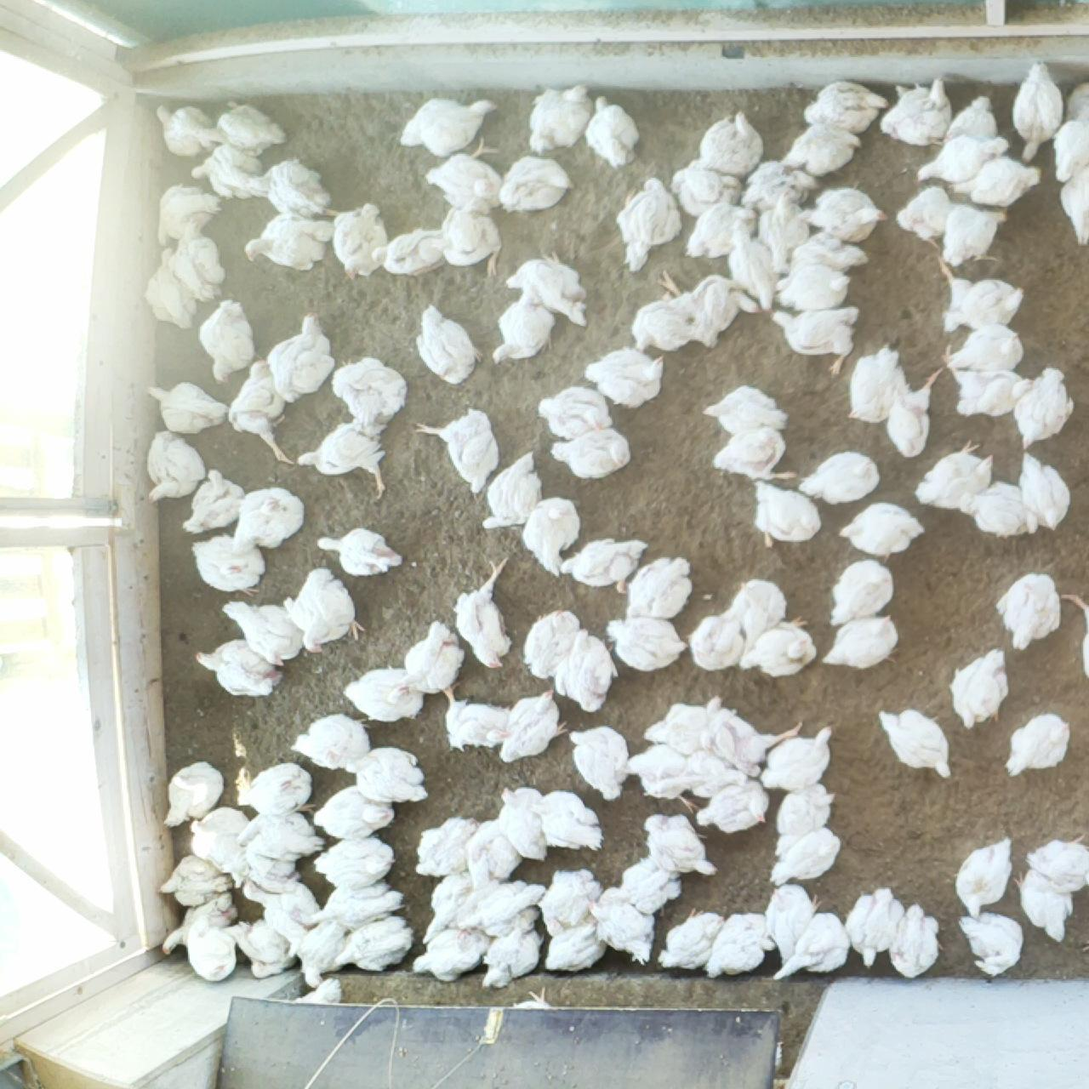chicken: (698, 694, 815, 778), (658, 271, 760, 355), (412, 403, 501, 499), (225, 357, 298, 471), (929, 247, 1024, 334), (265, 309, 341, 407), (296, 421, 388, 501), (238, 874, 322, 958), (939, 342, 1030, 419), (286, 565, 363, 656), (504, 246, 589, 327), (884, 359, 951, 461), (457, 554, 514, 671), (410, 301, 484, 391), (419, 138, 509, 212), (769, 304, 860, 377), (188, 806, 263, 892), (622, 740, 714, 810), (399, 94, 499, 158), (399, 616, 467, 710), (616, 178, 683, 272), (582, 880, 656, 965), (912, 438, 995, 513), (550, 625, 618, 716), (1008, 859, 1080, 943), (874, 705, 954, 780), (239, 155, 335, 217), (329, 356, 409, 430), (579, 344, 670, 409), (878, 76, 959, 149), (428, 201, 503, 279), (141, 424, 212, 506), (641, 698, 738, 758), (946, 154, 1046, 212), (761, 722, 839, 796), (498, 688, 571, 767), (846, 344, 916, 426), (1010, 63, 1066, 165), (218, 596, 303, 663), (775, 911, 855, 982), (1009, 366, 1075, 452), (837, 499, 927, 562), (477, 450, 545, 533), (752, 185, 814, 276), (797, 185, 891, 245), (241, 213, 333, 274), (332, 913, 417, 979), (328, 199, 393, 285), (558, 536, 651, 596), (736, 613, 815, 683), (197, 297, 258, 387), (798, 446, 888, 507), (996, 570, 1062, 653), (422, 866, 492, 944), (158, 895, 243, 959), (192, 637, 281, 698), (694, 109, 766, 184), (948, 649, 1013, 732), (764, 882, 828, 966), (710, 424, 801, 483), (341, 662, 427, 724), (704, 908, 777, 981), (750, 476, 823, 549), (443, 683, 519, 753), (496, 153, 580, 216), (957, 477, 1042, 539), (527, 81, 598, 155), (519, 495, 582, 578), (525, 790, 603, 857), (315, 523, 405, 581), (844, 887, 906, 971), (312, 781, 396, 843), (455, 880, 549, 935), (643, 810, 719, 878), (628, 290, 705, 357), (1015, 447, 1074, 534), (606, 613, 690, 674), (656, 904, 727, 976), (170, 215, 228, 303), (819, 611, 900, 674), (956, 835, 1016, 920), (624, 553, 696, 623), (372, 221, 456, 281), (343, 747, 428, 806), (145, 378, 231, 436), (289, 711, 372, 771), (536, 866, 607, 936), (311, 879, 404, 932), (190, 534, 267, 598), (232, 763, 318, 820), (727, 219, 777, 317), (768, 261, 851, 320), (698, 384, 792, 436), (495, 781, 556, 861), (937, 205, 1012, 270), (780, 121, 864, 179), (667, 156, 743, 220), (143, 247, 200, 332), (239, 805, 327, 860), (958, 909, 1027, 979), (159, 851, 238, 912), (229, 487, 308, 548), (681, 201, 760, 262), (1002, 712, 1075, 778), (550, 428, 636, 484), (914, 136, 1010, 186), (771, 780, 840, 849), (827, 559, 895, 629), (767, 827, 845, 888), (489, 299, 560, 366), (409, 929, 491, 987), (785, 229, 872, 283), (163, 758, 224, 835), (414, 811, 482, 880), (297, 910, 354, 992), (802, 81, 888, 135), (696, 778, 772, 839), (730, 581, 791, 657), (522, 608, 584, 682), (314, 838, 399, 891), (583, 92, 640, 171), (464, 815, 530, 883), (279, 974, 348, 1039), (153, 181, 223, 245), (211, 100, 288, 158), (187, 147, 265, 204), (181, 469, 247, 536), (231, 916, 298, 981), (569, 725, 627, 800), (542, 911, 611, 974), (890, 903, 947, 978), (741, 157, 815, 214), (539, 386, 613, 442), (945, 329, 1027, 379), (671, 748, 748, 801), (1019, 837, 1089, 895), (483, 929, 547, 991), (155, 100, 220, 161), (618, 854, 683, 913), (895, 186, 957, 246), (184, 914, 238, 980), (945, 95, 1001, 158), (690, 615, 745, 673), (236, 852, 302, 897), (1048, 117, 1089, 185), (1059, 590, 1089, 680), (1057, 166, 1089, 247), (1058, 78, 1089, 140)
